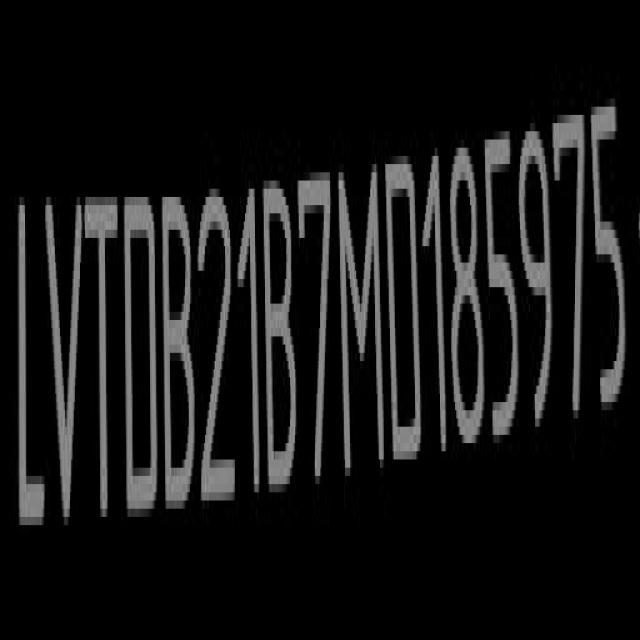1: (419, 137, 450, 465), (238, 174, 262, 498)
2: (197, 182, 237, 510)
5: (591, 92, 627, 420), (484, 124, 520, 450)
7: (297, 155, 334, 495), (550, 103, 588, 420)
8: (449, 134, 485, 440)
9: (518, 122, 554, 426)
B: (161, 170, 198, 526), (262, 161, 297, 501)
D: (122, 176, 160, 529), (385, 131, 422, 477)
L: (15, 167, 48, 529)
M: (336, 146, 385, 480)
T: (83, 182, 122, 532)
V: (44, 173, 84, 535)
